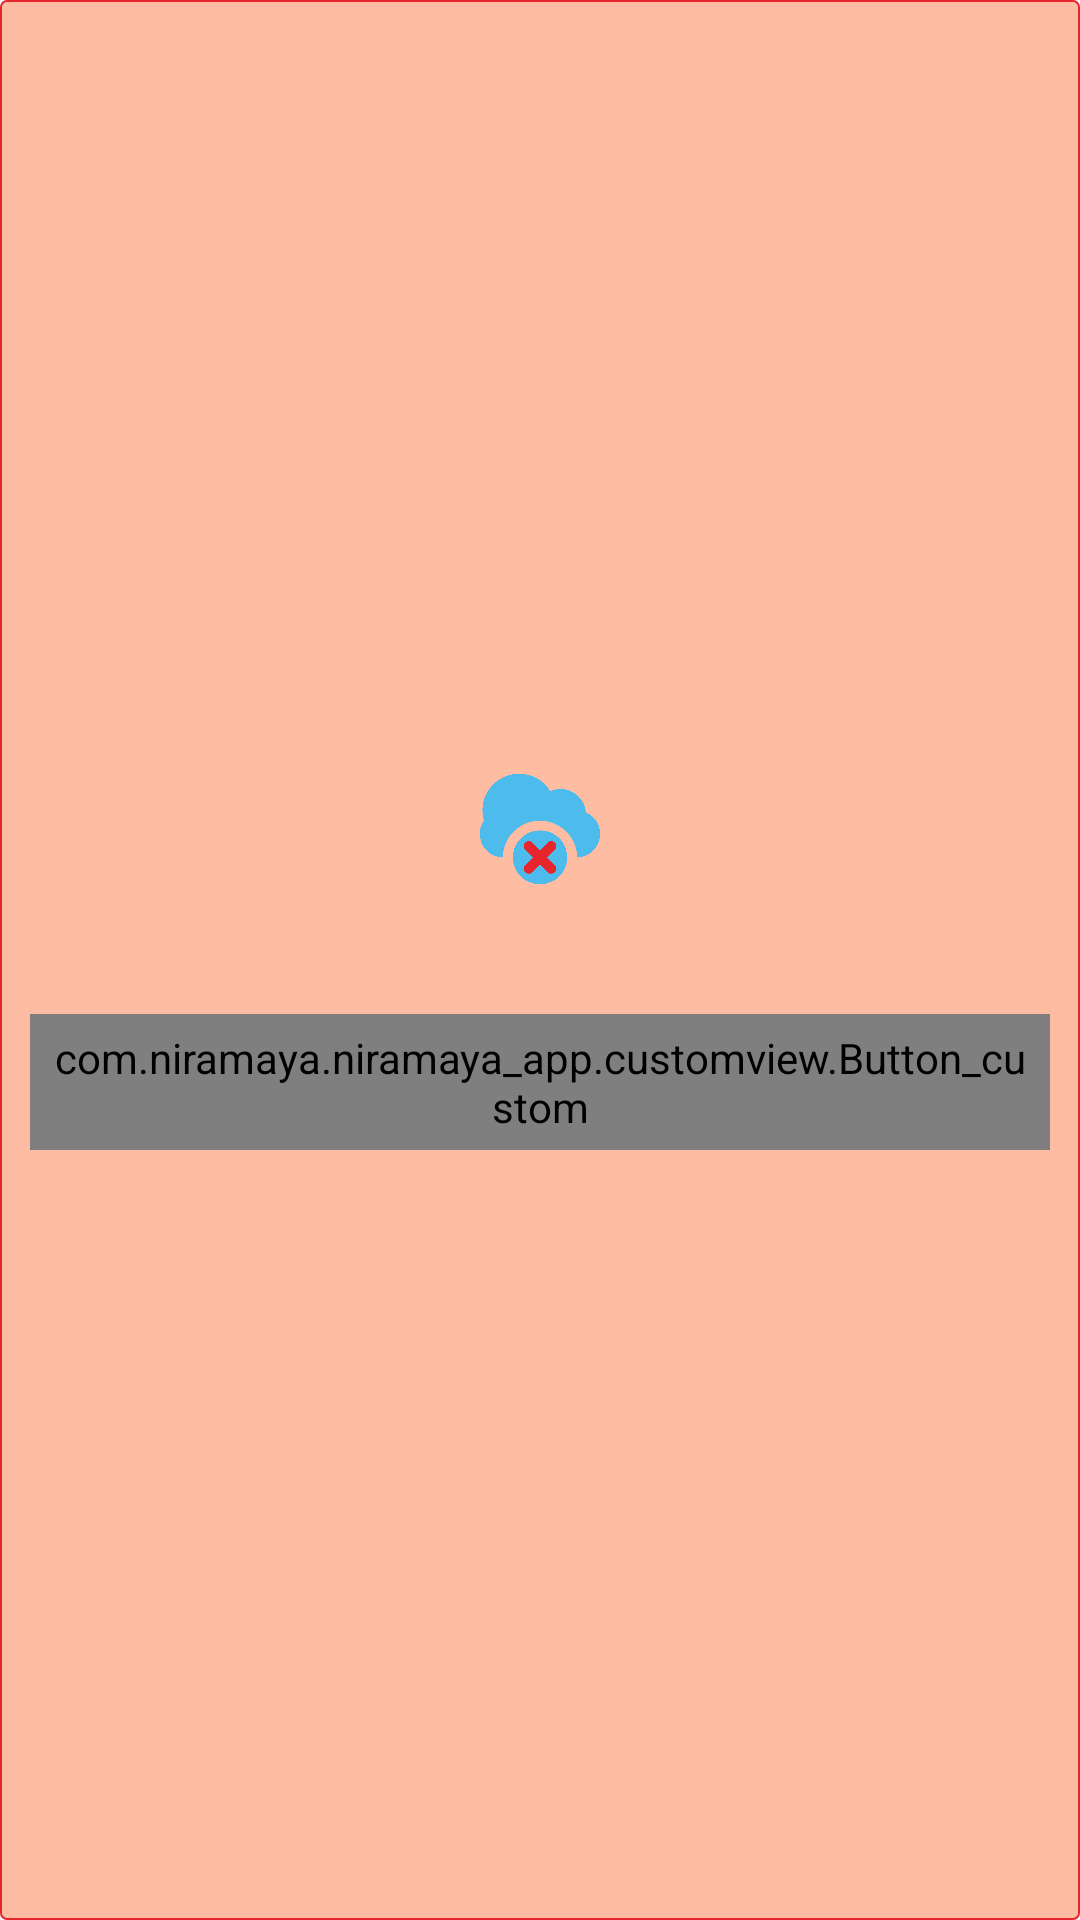

Icon click points for this 1080x1920 phone screenshot, format point (x, y):
net error: point (540, 829)
